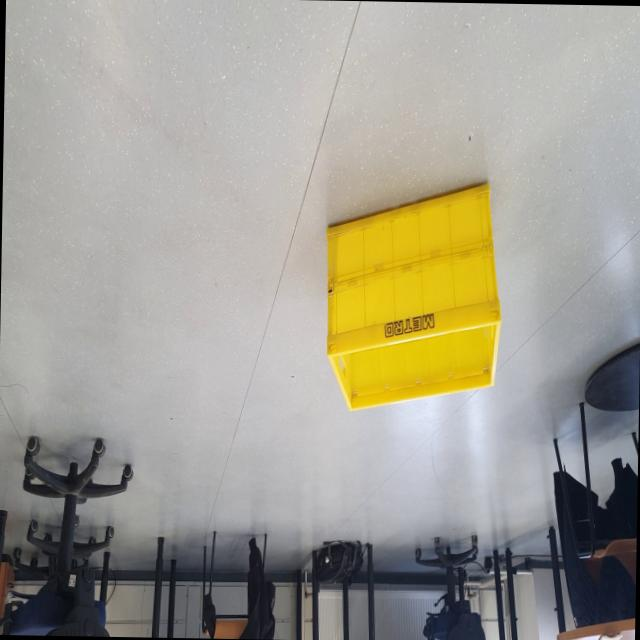box: (312, 173, 515, 416)
